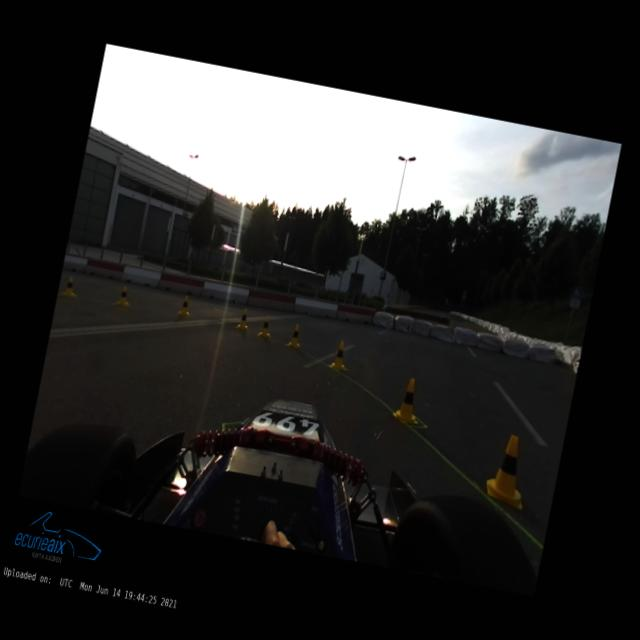yellow_cone: (483, 433, 535, 510), (392, 376, 427, 425), (330, 340, 350, 371), (288, 323, 304, 348), (258, 315, 274, 338), (178, 294, 194, 316), (237, 308, 252, 330), (62, 276, 78, 296), (118, 286, 132, 306)
